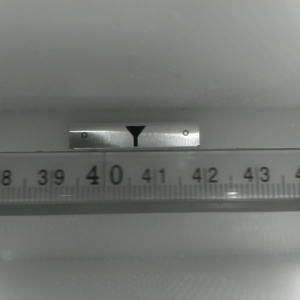0: (109, 164, 123, 184)
1: (159, 168, 167, 183)
2: (207, 168, 218, 183)
3: (258, 167, 270, 182), (36, 170, 47, 185)
4: (85, 165, 100, 184), (241, 167, 253, 182), (191, 168, 202, 183), (142, 168, 152, 183)
8: (0, 170, 11, 186)
9: (53, 169, 64, 185)
finger: (123, 126, 146, 145)
